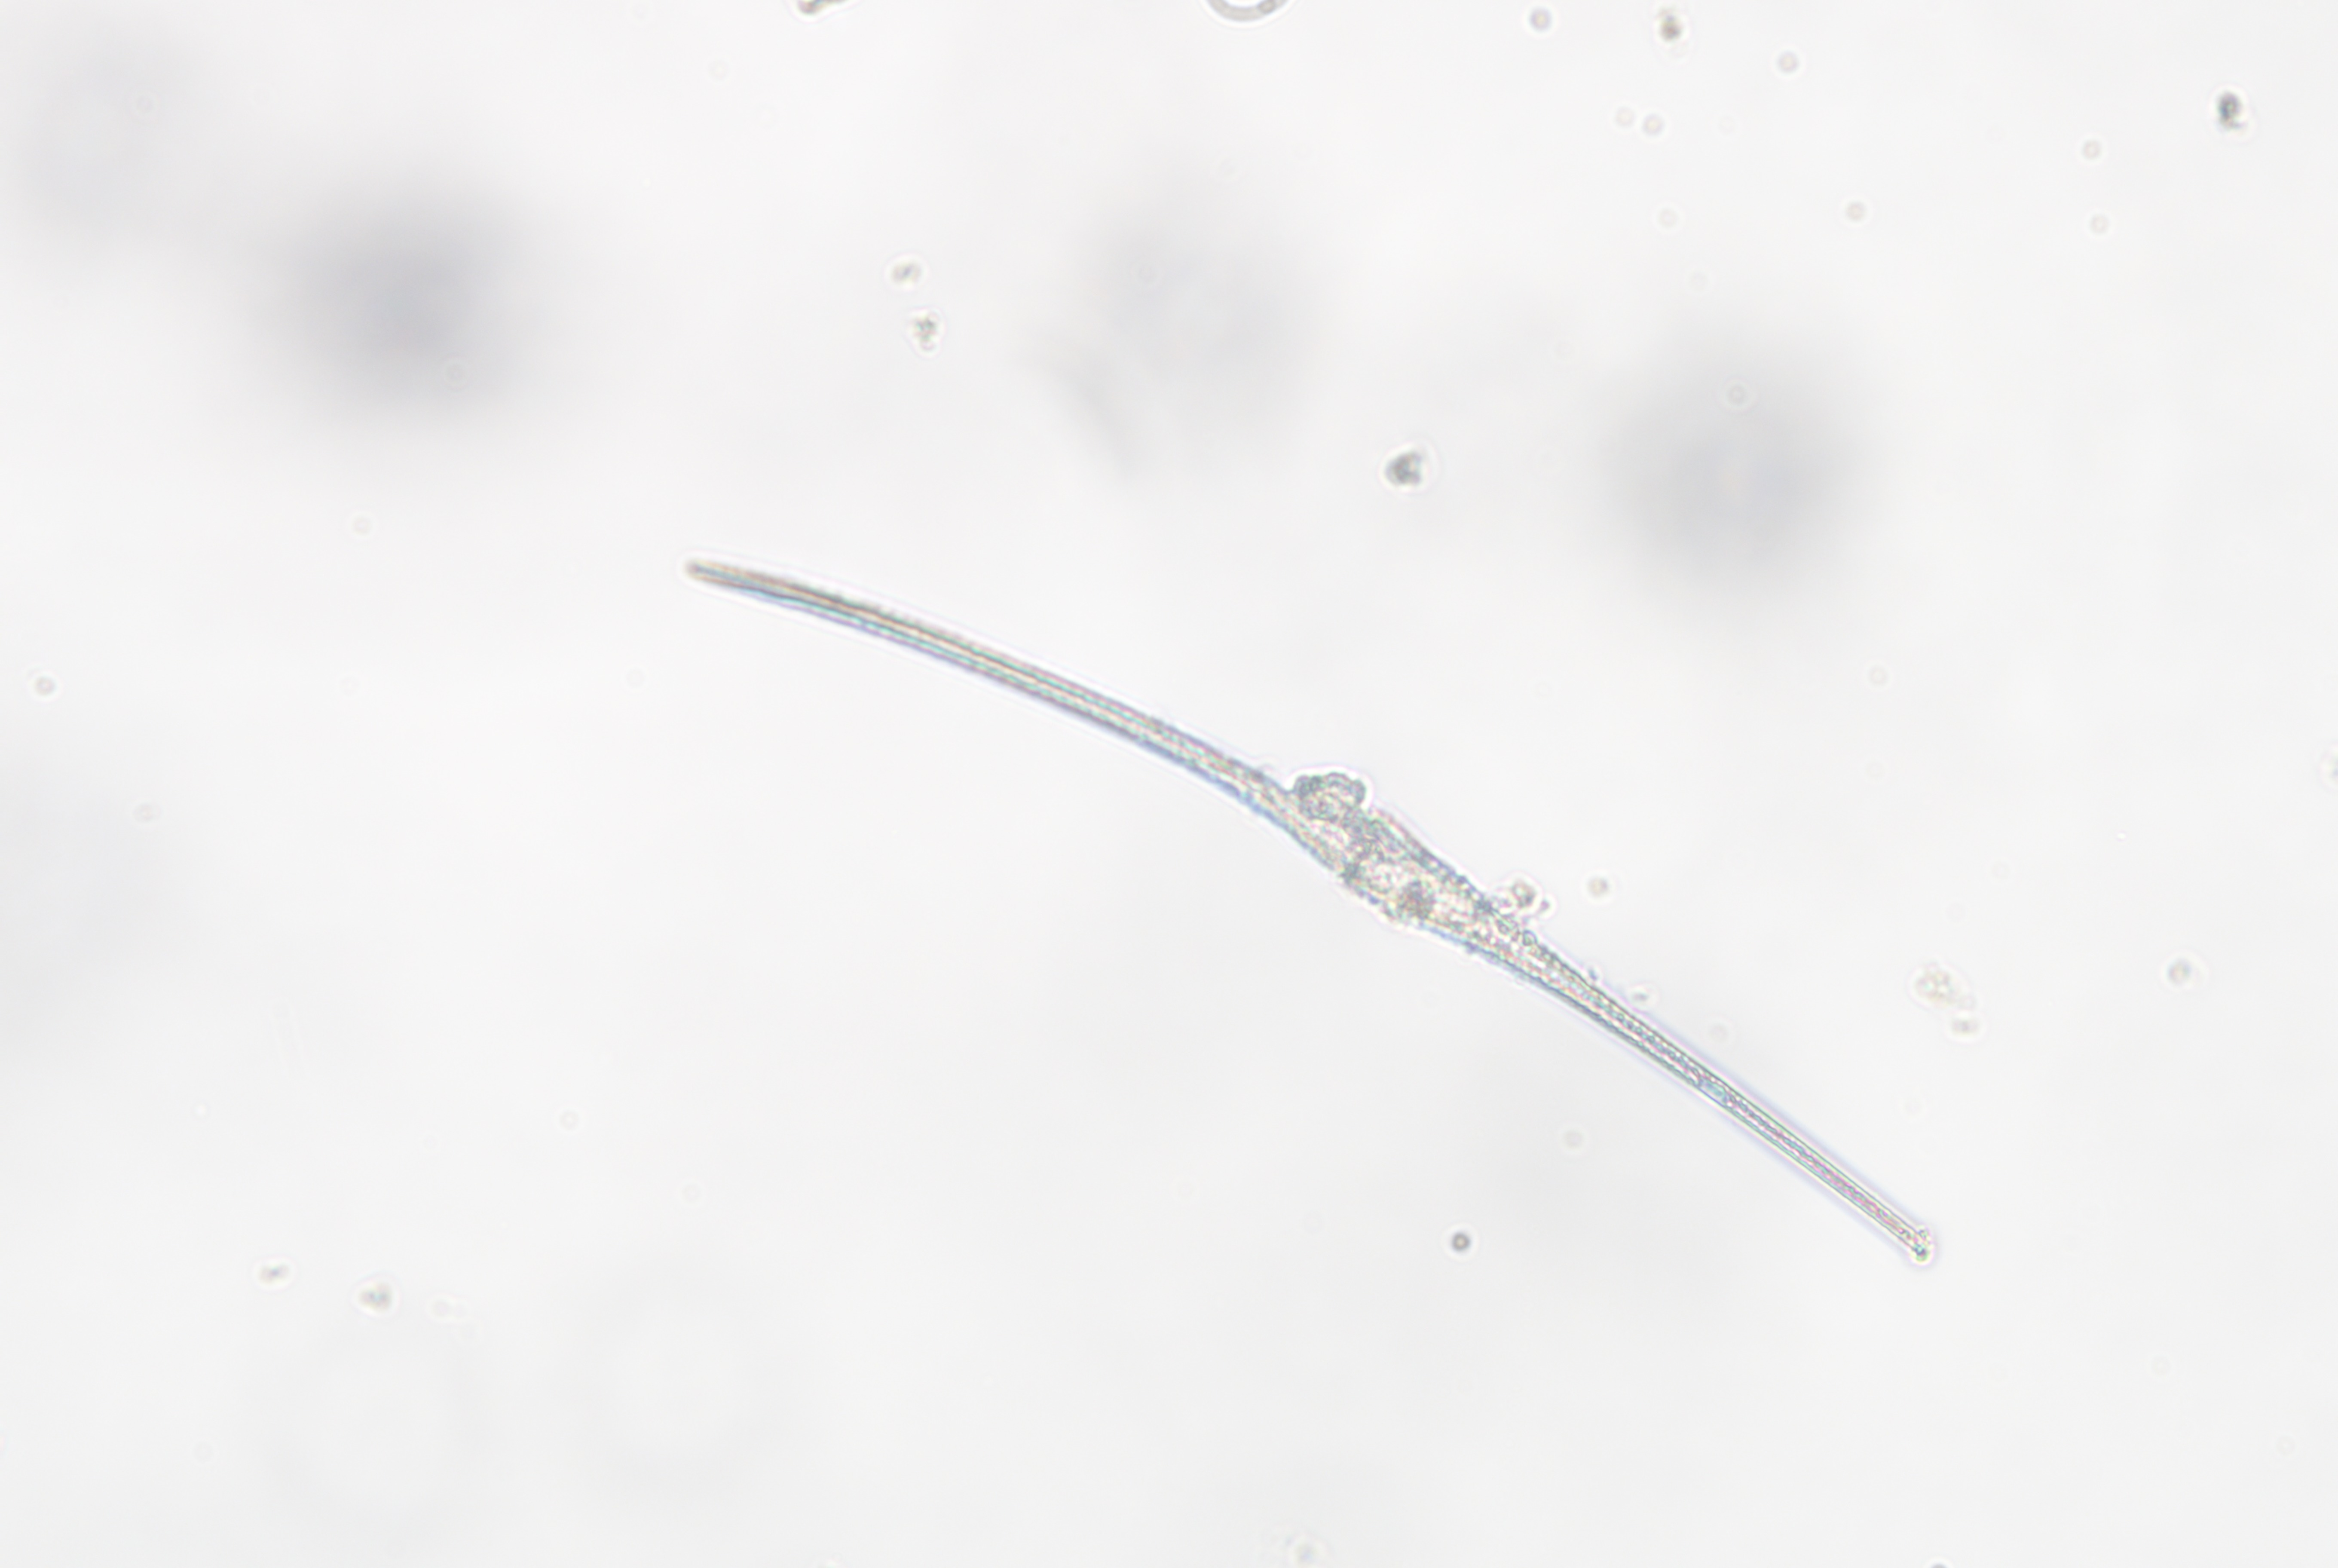ceratium fusus: (681, 555, 1937, 1270)
